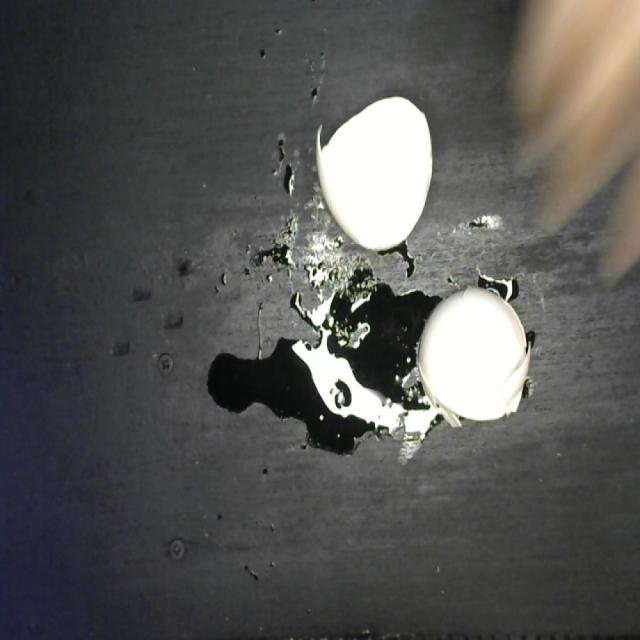biodegradable: (310, 87, 436, 256)
